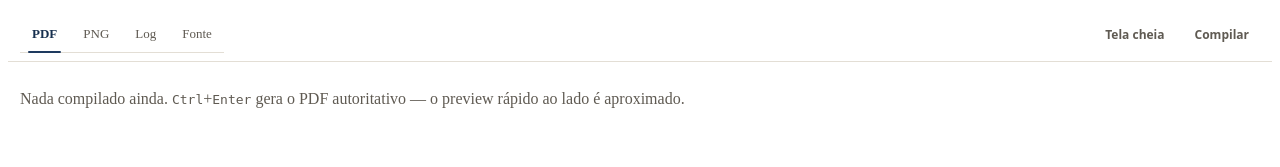
RenderPanel › a aba Fonte mostra o LaTeX enviado, mesmo sem compilação
The width and height of the screenshot is (1280, 167).
What coordinates should you click on to do the following:
click the tab "Fonte"
I would click on:
 (197, 34)
Its box is x1=170 y1=16 x2=224 y2=52.
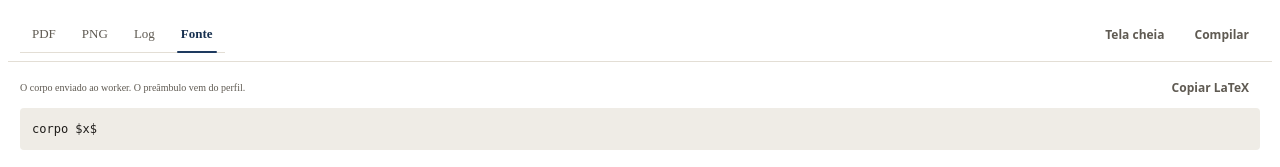
Result: the text "corpo $x$" is shown at x1=20 y1=108 x2=1260 y2=150
